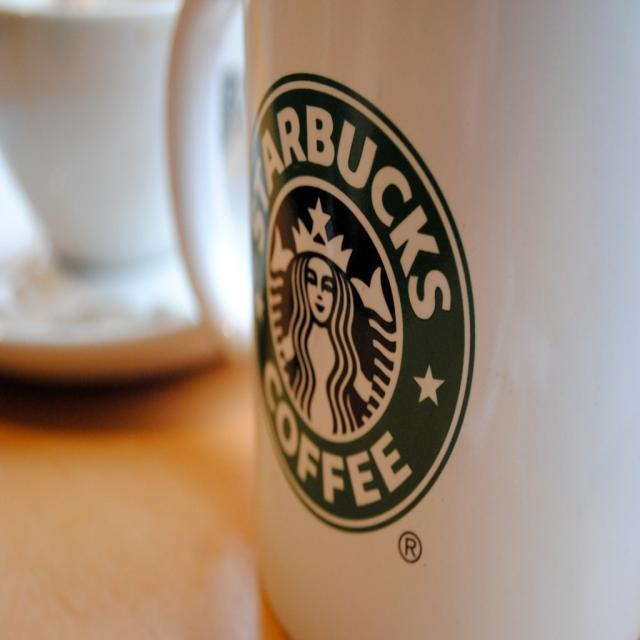starbucks: (249, 74, 475, 535)
